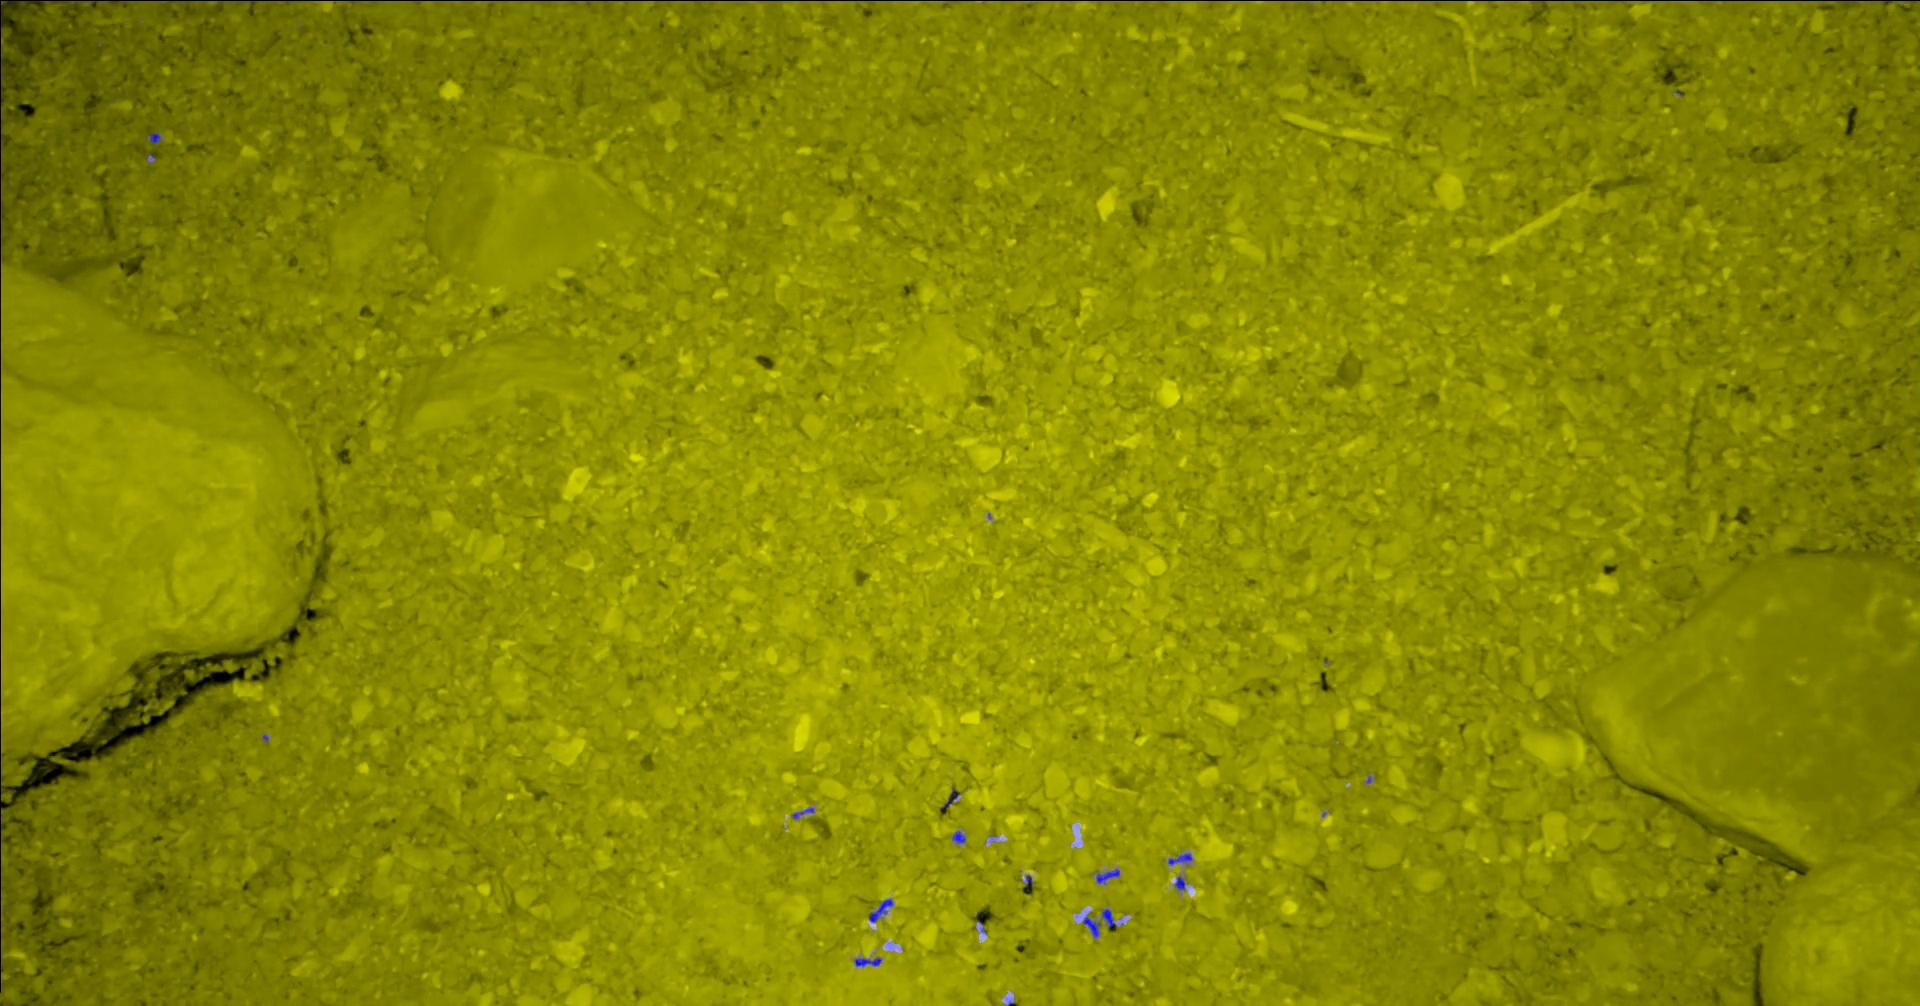ant: (870, 898, 894, 922), (1084, 915, 1101, 937), (1097, 868, 1121, 883), (943, 788, 961, 807), (856, 956, 883, 967), (1103, 908, 1117, 927), (1170, 852, 1192, 864), (41, 0, 210, 1), (147, 131, 163, 144), (952, 831, 968, 843), (1176, 875, 1186, 890), (1, 140, 3, 259), (216, 0, 305, 1)
